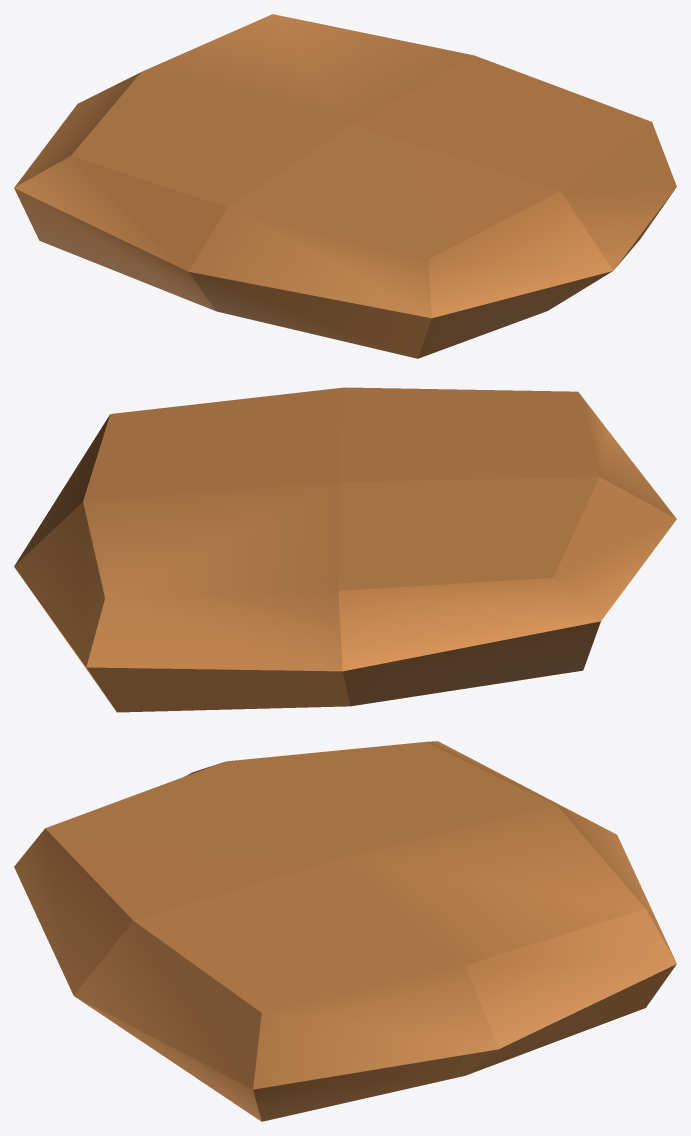
Rendered from Rock_Desert12.fbx.
3 views of the same model, one above another, from view 1: azimuth 30°, elevation 25°; view 2: azimuth 150°, elevation 25°; view 3: azimuth 270°, elevation 25° (orthographic). The views are drawn at different scales.
Visible parts, largest first — view 1: Rock_Desert10; view 2: Rock_Desert10; view 3: Rock_Desert10.
Boxes of the visible parts, x1=… form: Rock_Desert10: x1=14, y1=14, x2=676, y2=358; Rock_Desert10: x1=14, y1=387, x2=676, y2=712; Rock_Desert10: x1=14, y1=741, x2=676, y2=1121.
Bounding box in the file's own units: 35.92 × 9.06 × 36.17.
